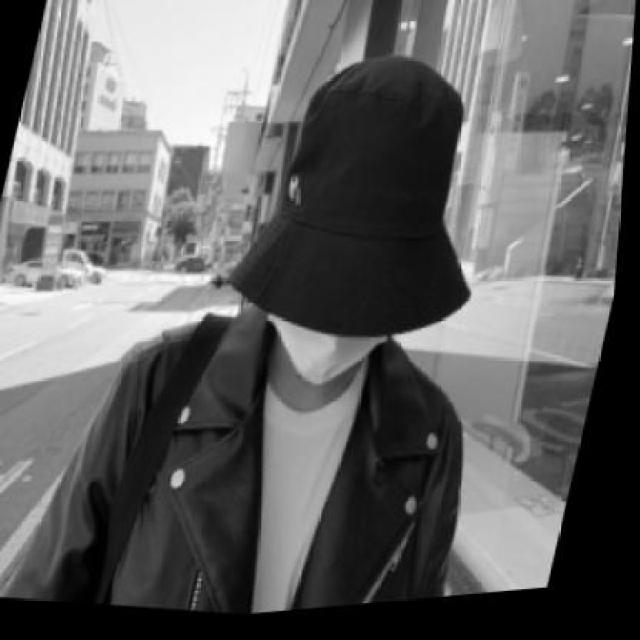hat: (217, 41, 525, 374)
